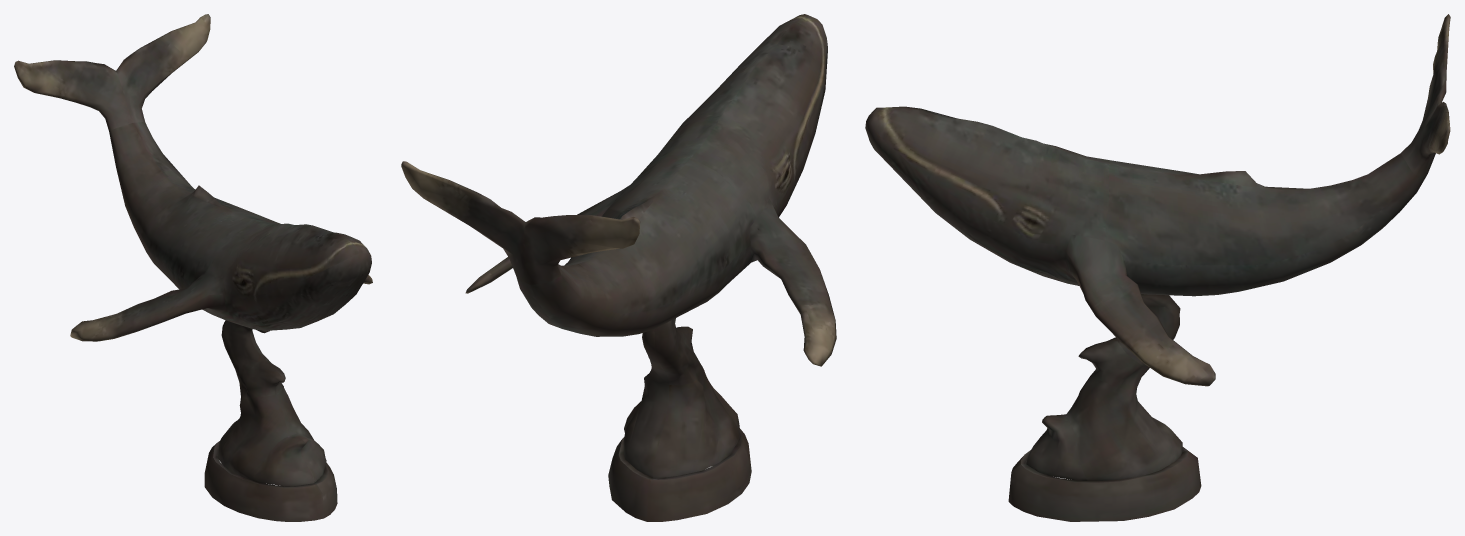
Rendered from statue_whale.glb.
3 views of the same model, side by side, from view 1: azimuth 30°, elevation 25°; view 2: azimuth 150°, elevation 25°; view 3: azimuth 270°, elevation 25° (orthographic). The views are drawn at different scales.
Visible parts, largest first — view 1: statue_whale; view 2: statue_whale; view 3: statue_whale.
Part boxes in pixels (x1,y1,x2,y2): statue_whale: (14,14,372,521); statue_whale: (401,14,836,521); statue_whale: (865,14,1450,521).
Size of the model in its own units: 0.9306 by 1.07 by 1.36.
Materials: 1 (1 with a texture image).
